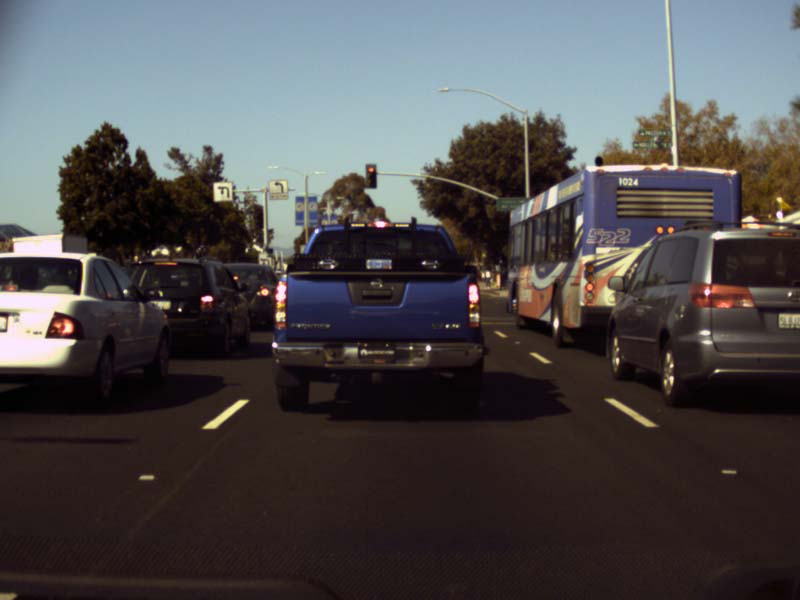Red: (365, 164, 377, 187)
